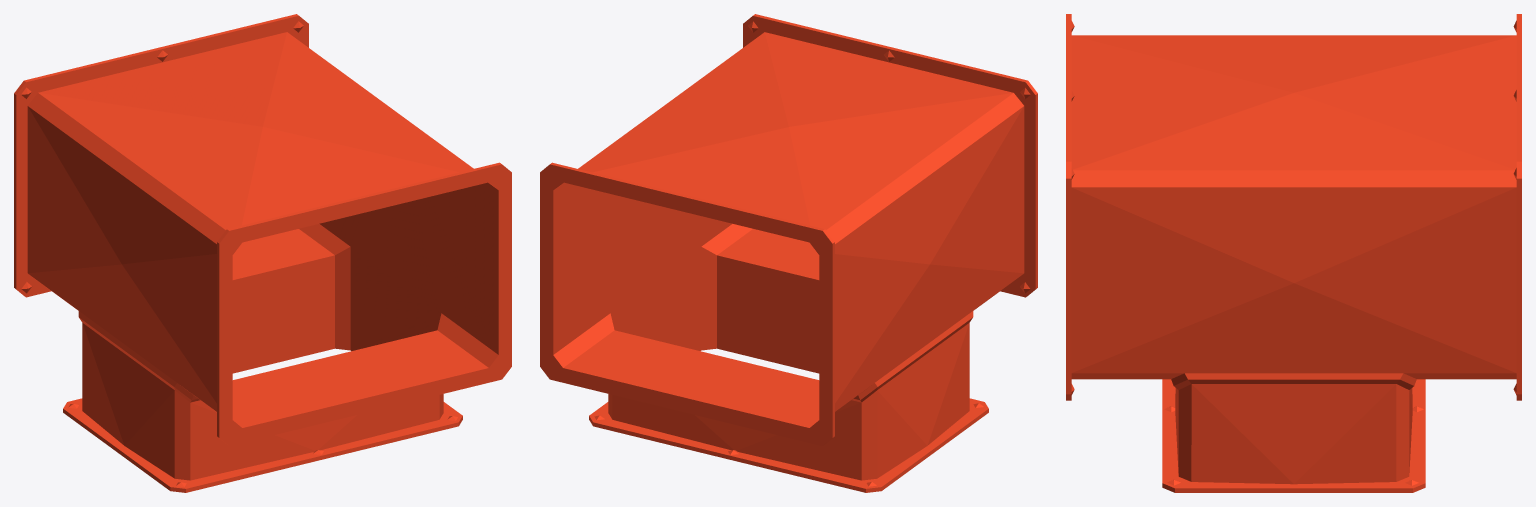
The model's file is SM_Vent_Cross_Down_City.fbx.
The picture shows the model from 3 angles, left to right: view 1: azimuth 30°, elevation 25°; view 2: azimuth 150°, elevation 25°; view 3: azimuth 270°, elevation 25°; orthographic projection. The views are drawn at different scales.
Parts seen in each view (by area): view 1: SM_Vent_Cross_Down_City; view 2: SM_Vent_Cross_Down_City; view 3: SM_Vent_Cross_Down_City.
Part boxes in pixels (<box>): SM_Vent_Cross_Down_City: <box>14,14,511,492</box>; SM_Vent_Cross_Down_City: <box>540,14,1037,492</box>; SM_Vent_Cross_Down_City: <box>1066,14,1521,492</box>.
Bounding box in the file's own units: 0.8224 × 0.789 × 1.
